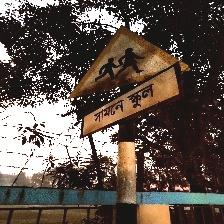School-in-front: (67, 26, 190, 139)
